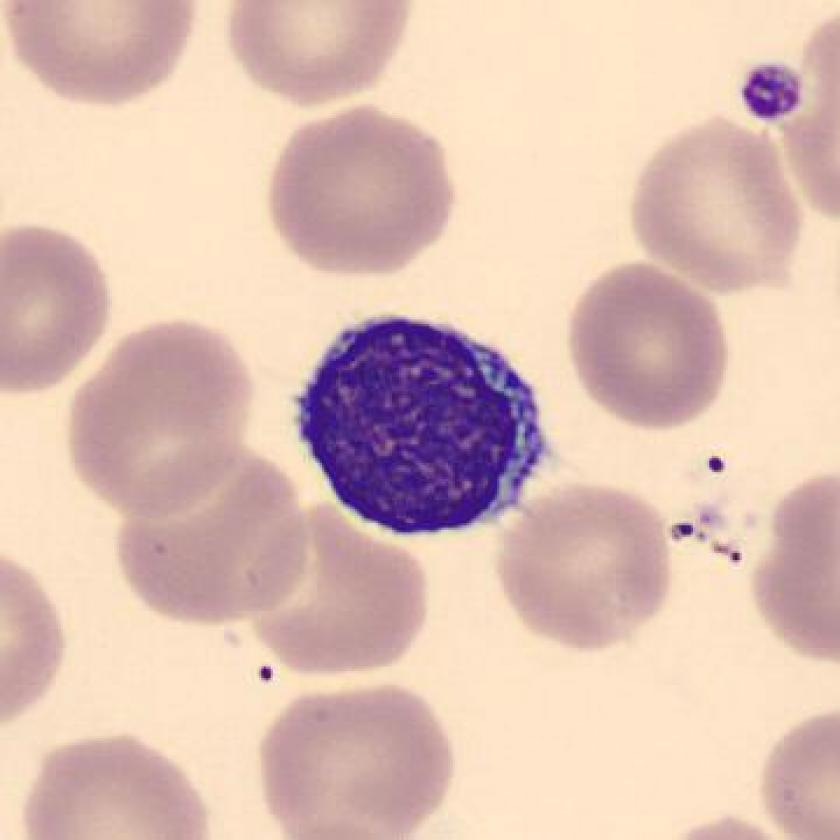lymphocyte: (276, 297, 561, 547)
